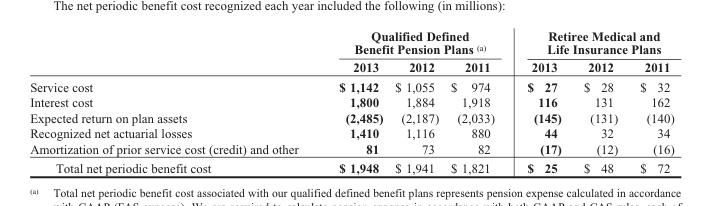table: (29, 28, 673, 174)
table column: (29, 28, 318, 174), (318, 28, 388, 174), (444, 28, 510, 174), (510, 28, 571, 174), (571, 28, 628, 174), (388, 28, 444, 174), (628, 28, 673, 174)
table column header: (29, 28, 673, 76)
table row: (29, 28, 673, 57), (29, 57, 673, 76), (29, 76, 673, 94), (29, 140, 673, 158), (29, 109, 673, 125), (29, 158, 673, 174), (29, 94, 673, 109), (29, 125, 673, 140)
table spanning cell: (318, 28, 510, 57), (510, 28, 673, 57)
